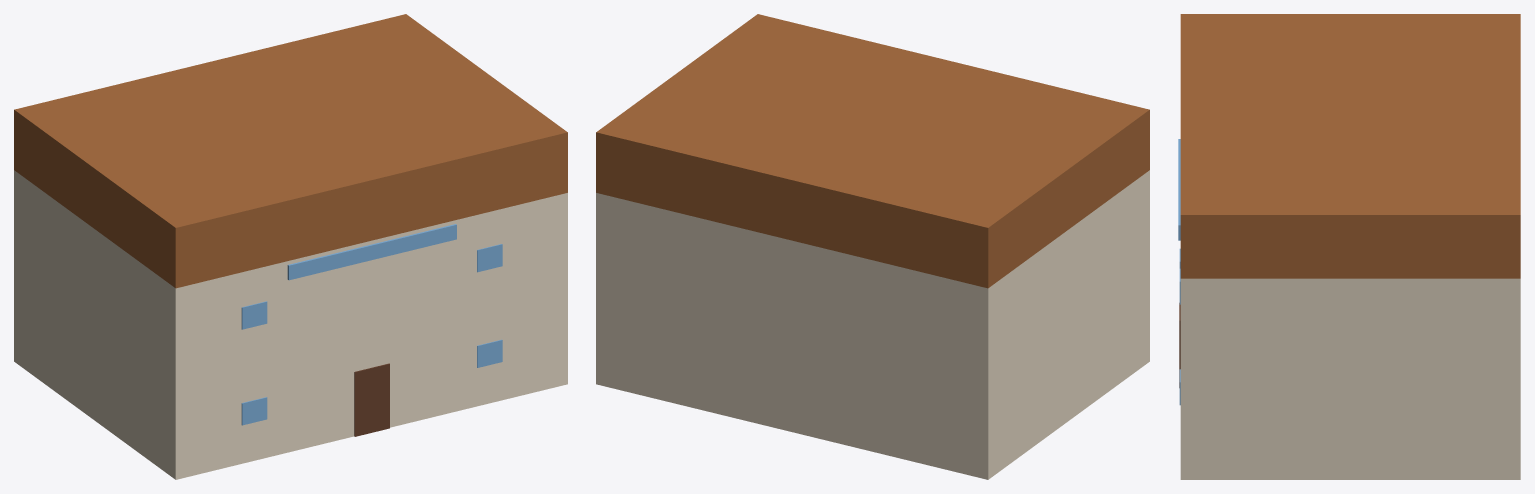
File: gedung_perpus.fbx
3 views of the same model, side by side, from view 1: azimuth 30°, elevation 25°; view 2: azimuth 150°, elevation 25°; view 3: azimuth 270°, elevation 25° (orthographic). The views are drawn at different scales.
Visible parts, largest first — view 1: gedung_perpus; view 2: gedung_perpus; view 3: gedung_perpus.
Boxes of the visible parts, x1,y1,x2,y2 form: gedung_perpus: (14, 14, 567, 479); gedung_perpus: (596, 14, 1149, 479); gedung_perpus: (1178, 14, 1520, 479).
Size of the model in its own units: 1400 by 860 by 1007.
1 material, 1 textured.
